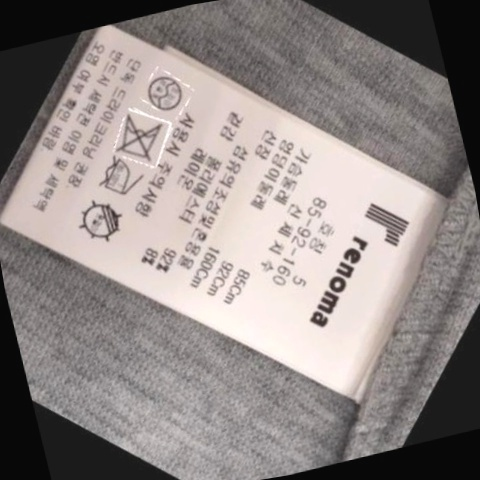DN_wash: (112, 110, 173, 164)
dry_clean_petrol_only: (142, 68, 190, 115)
iron_low: (93, 154, 147, 203)
line_dry_in_shade: (75, 196, 133, 246)
